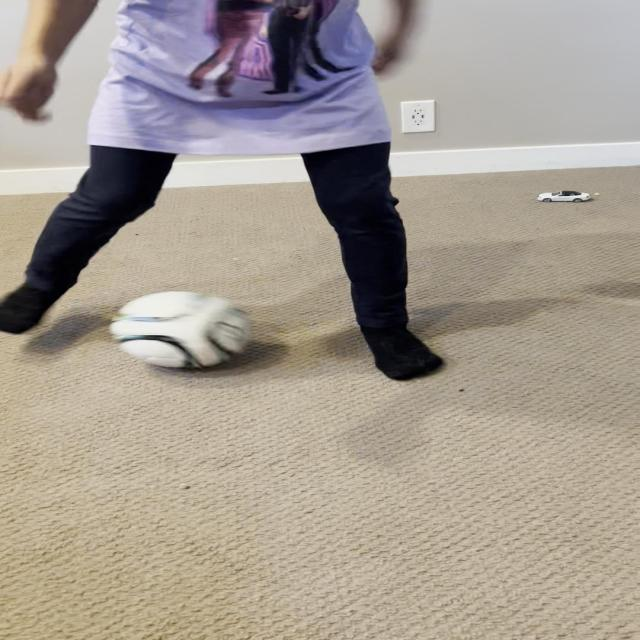Soccer Ball: (108, 291, 255, 370)
